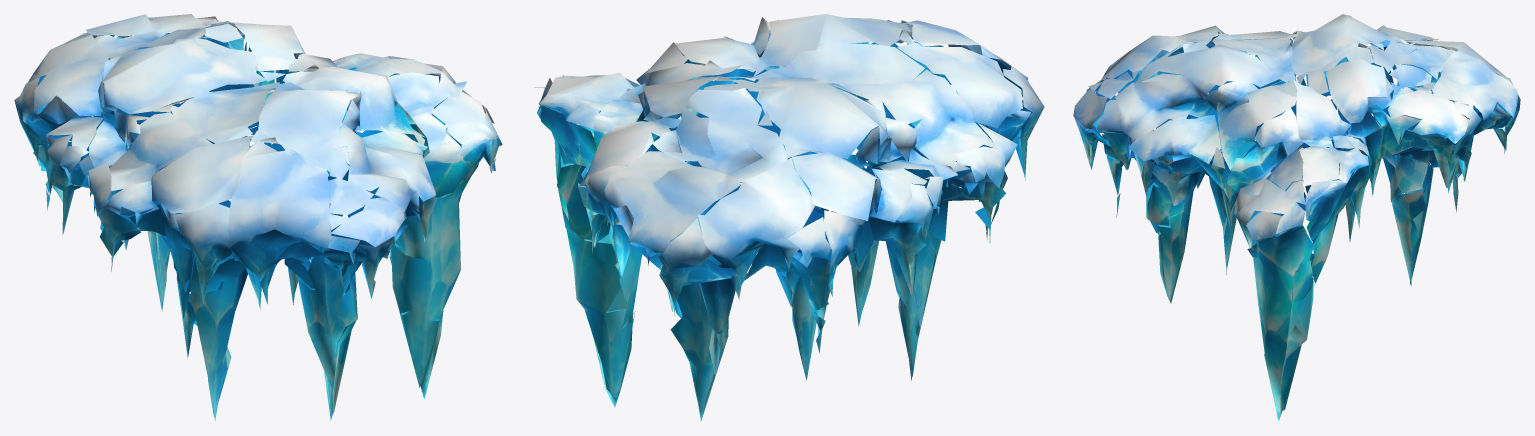
Rendered from estalactites.glb.
3 renders of one model, left to right at view 1: azimuth 30°, elevation 25°; view 2: azimuth 150°, elevation 25°; view 3: azimuth 270°, elevation 25°, orthographic. The views are drawn at different scales.
Parts seen in each view (by area): view 1: estalactites; view 2: estalactites; view 3: estalactites.
Part boxes in pixels (x1=…): estalactites: x1=14, y1=14, x2=502, y2=420; estalactites: x1=534, y1=14, x2=1044, y2=421; estalactites: x1=1073, y1=14, x2=1520, y2=421.
Size of the model in its own units: 1.15 by 1 by 1.3.
1 material, 1 textured.
